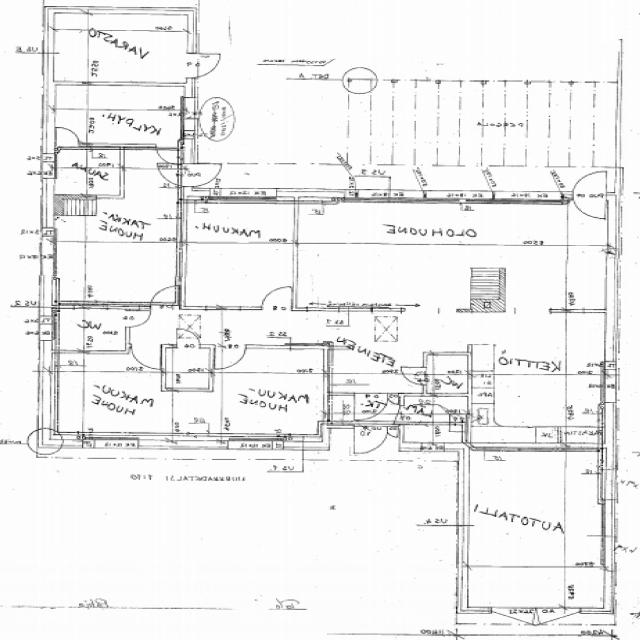door: (536, 608, 581, 640), (492, 608, 536, 640), (186, 53, 230, 78), (573, 190, 604, 224), (573, 168, 604, 201), (354, 425, 388, 453), (354, 393, 388, 420), (215, 345, 246, 371), (157, 164, 195, 185), (186, 164, 224, 185), (262, 285, 292, 310), (153, 285, 183, 310), (132, 345, 160, 369), (156, 144, 184, 167), (374, 406, 404, 424), (54, 125, 78, 146), (400, 368, 428, 385), (177, 328, 200, 348), (126, 312, 150, 326), (388, 425, 398, 437), (388, 393, 398, 403)
